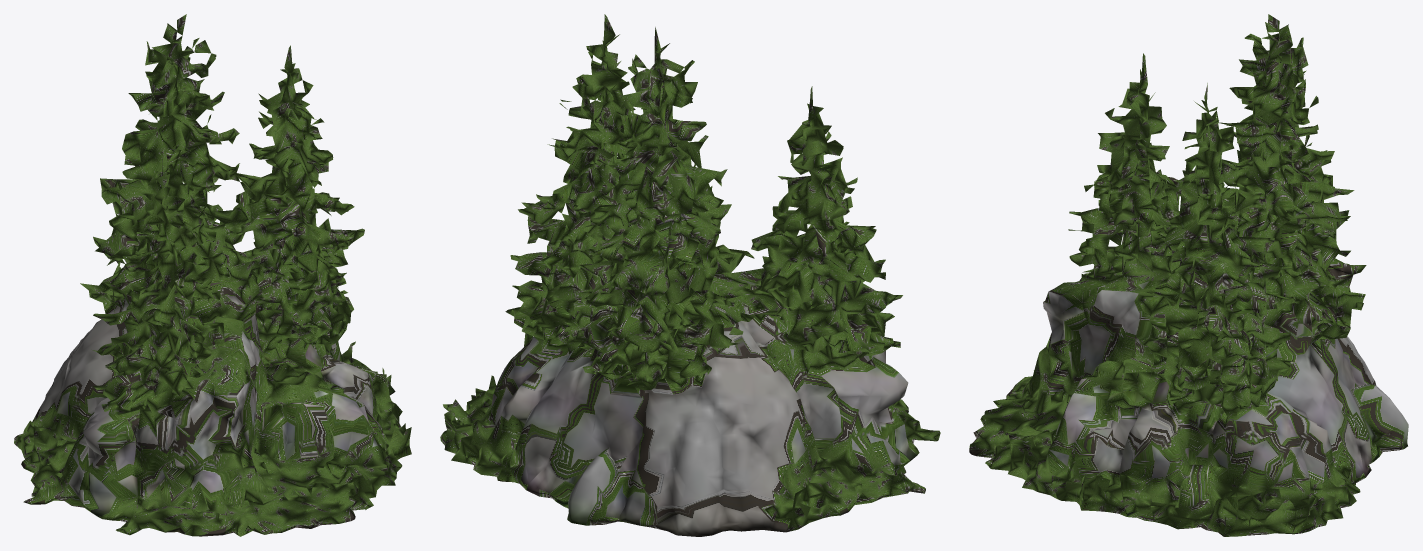
Rendered from rockyTree.glb.
The picture shows the model from 3 angles, left to right: view 1: azimuth 30°, elevation 25°; view 2: azimuth 150°, elevation 25°; view 3: azimuth 270°, elevation 25°; orthographic projection. The views are drawn at different scales.
Bounding box in the file's own units: 1.87 × 1.88 × 1.73.
Materials: 1 (1 with a texture image).
